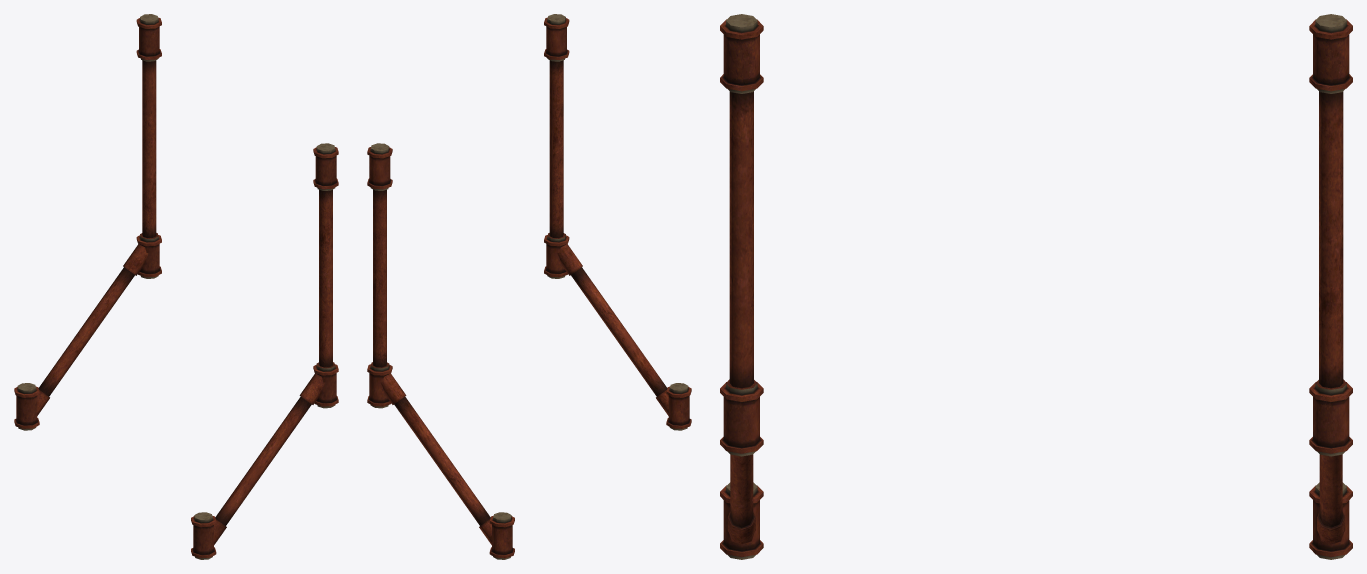
File: scaffold_terminal_top.dae
The picture shows the model from 3 angles, left to right: view 1: azimuth 30°, elevation 25°; view 2: azimuth 150°, elevation 25°; view 3: azimuth 270°, elevation 25°; orthographic projection. The views are drawn at different scales.
Visible parts, largest first — view 1: polySurface40; view 2: polySurface40; view 3: polySurface40.
Boxes of the visible parts, left/top/right/bottom form: polySurface40: left=14, top=14, right=338, bottom=559; polySurface40: left=367, top=14, right=691, bottom=559; polySurface40: left=720, top=14, right=1352, bottom=559.
Size of the model in its own units: 1.18 by 2.96 by 2.68.
